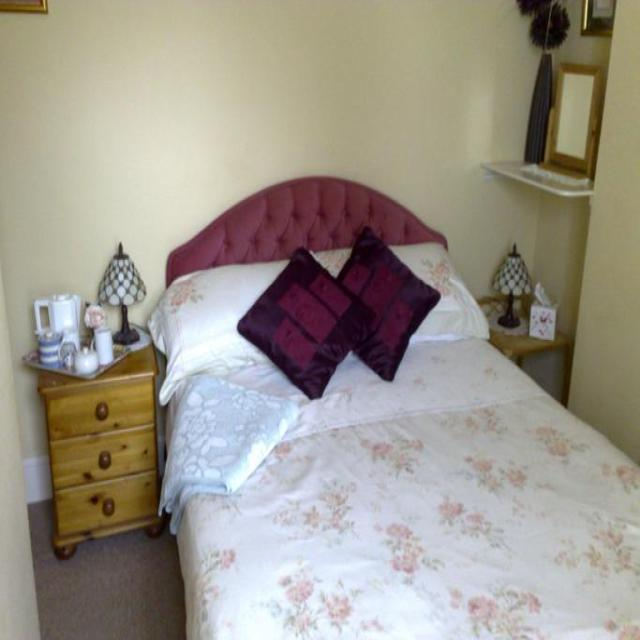bed: (146, 174, 639, 638)
cupboard: (22, 328, 165, 560)
curtains: (523, 51, 553, 164)
lamps: (97, 240, 146, 345), (491, 242, 532, 328)
pillows: (236, 245, 376, 400)
plants: (514, 0, 570, 165)
windows: (542, 61, 604, 179), (580, 0, 617, 36)
